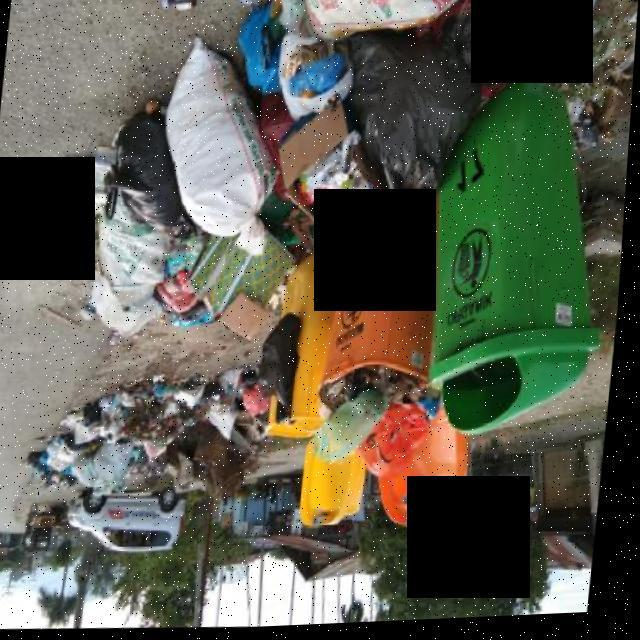bin: (412, 73, 633, 454), (323, 195, 441, 425), (264, 240, 354, 449)
